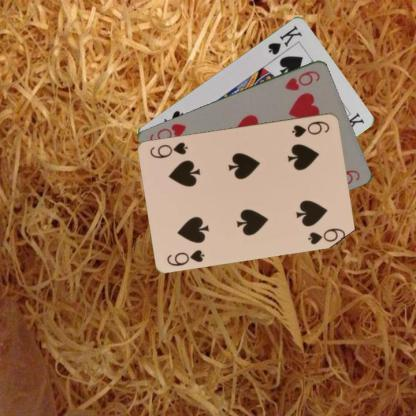6h: (282, 67, 322, 92)
6s: (289, 118, 331, 139), (164, 247, 206, 267)
Ks: (265, 22, 304, 56)
